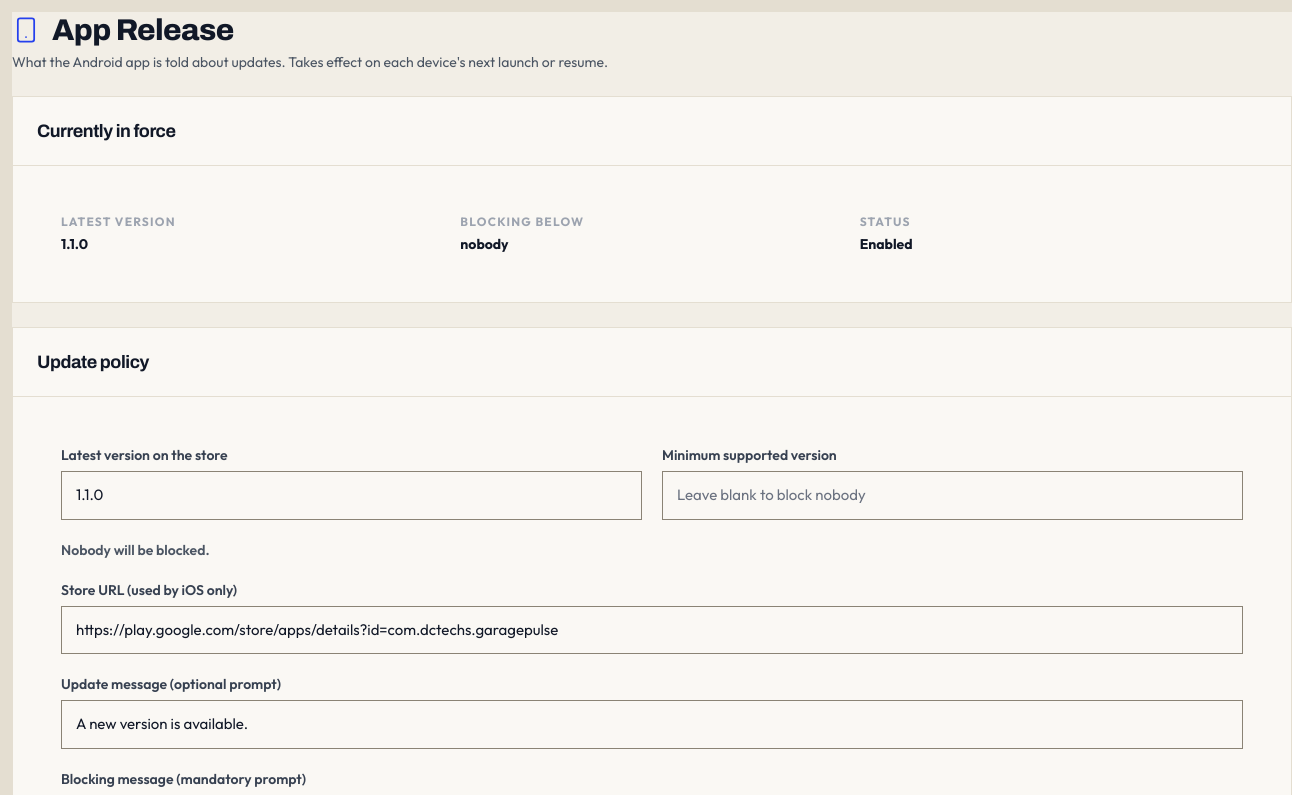
Test: AdminAppRelease › turns the minimum into a sentence about real people
This screenshot has width=1292, height=795.
Expected: the field labelled "Latest version on the store" is shown, [61,471,642,520]
Expected: the text "Nobody will be blocked." is shown, [61,540,210,558]
Type "1.0.5" into the field labelled "Minimum supported version" at (952, 495), box [662,471,1243,520]
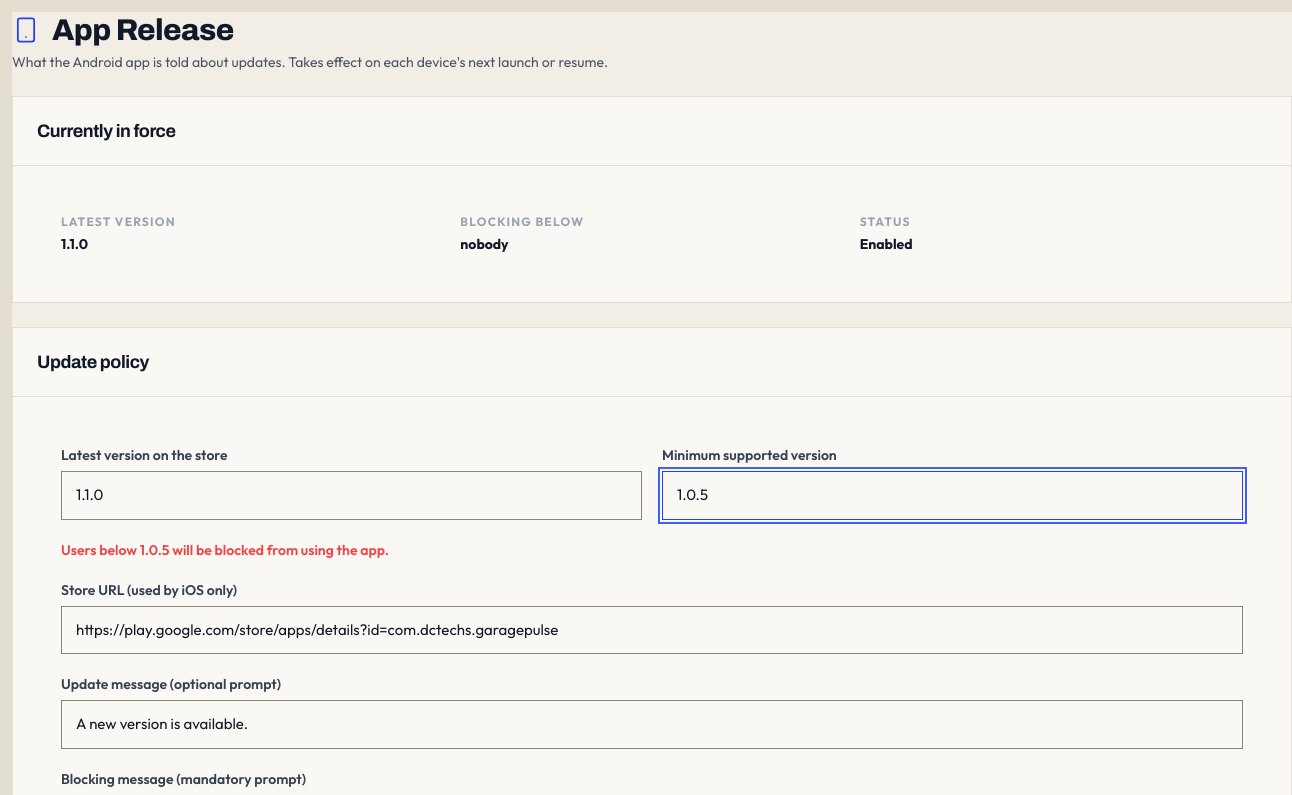
Result: the text "Users below 1.0.5 will be blocked from using the app." is shown at [61,540,389,558]
